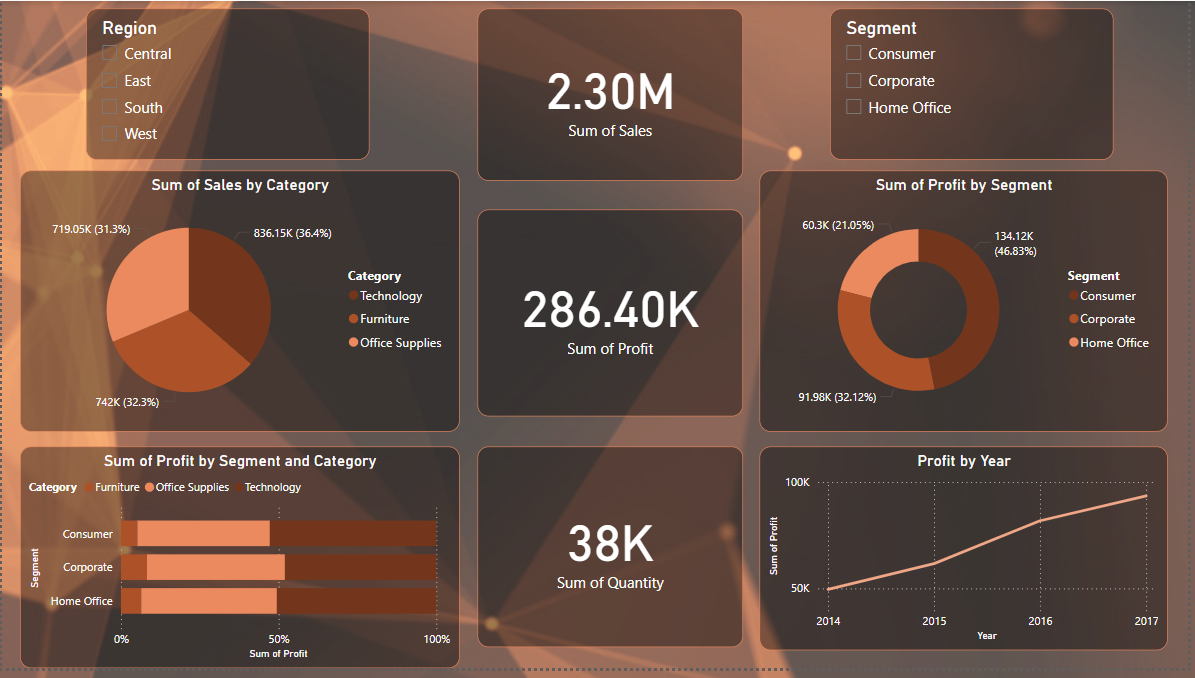

Layout of this report page (visuals, bound fields, positions):
{"tool":"powerbi","page":{"name":"Page 1","canvas":[1280,720],"ordinal":0},"visuals":[{"type":"slicer","fields":{"Values":["superstore.Region"]},"box":[90.7,8.1,306,163.5],"z":0},{"type":"slicer","fields":{"Values":["superstore.Segment"]},"box":[893.8,8.1,306,163.5],"z":1000},{"type":"card","fields":{"Values":["Sum(superstore.Sales)"]},"box":[513.3,8.1,286.6,186.2],"z":2000},{"type":"card","fields":{"Values":["Sum(superstore.Profit)"]},"box":[513.3,225.1,286.6,223.5],"z":3000},{"type":"card","fields":{"Values":["Sum(superstore.Quantity)"]},"box":[513.3,480.9,286.6,217],"z":4000},{"type":"hundredPercentStackedBarChart","fields":{"Category":["superstore.Segment"],"Y":["Sum(superstore.Profit)"],"Series":["superstore.Category"]},"box":[19.4,480.9,474.4,239.6],"z":5000},{"type":"pieChart","fields":{"Category":["superstore.Category"],"Y":["Sum(superstore.Sales)"]},"box":[19.4,183,474.4,281.7],"z":5001},{"type":"donutChart","fields":{"Category":["superstore.Segment"],"Y":["Sum(superstore.Profit)"]},"box":[817.7,183,440.4,281.7],"z":5002},{"type":"lineChart","title":"Profit by Year","fields":{"Category":["superstore.OrderDate.Variation.Date Hierarchy.Year"],"Y":["Sum(superstore.Profit)"]},"box":[817.7,480.9,440.4,220.2],"z":5003}]}

Visuals, with their boxes in screenshot pixels (x1, y1, x2, y2), scaled from the page's 1280x720 canvas onto the 1195x678 screenshot:
slicer - superstore.Region: 85:8:370:162
slicer - superstore.Segment: 834:8:1120:162
card - Sum(superstore.Sales): 479:8:747:183
card - Sum(superstore.Profit): 479:212:747:422
card - Sum(superstore.Quantity): 479:453:747:657
hundredPercentStackedBarChart - superstore.Segment x Sum(superstore.Profit): 18:453:461:677
pieChart - superstore.Category x Sum(superstore.Sales): 18:172:461:438
donutChart - superstore.Segment x Sum(superstore.Profit): 763:172:1175:438
"Profit by Year" lineChart: 763:453:1175:660
